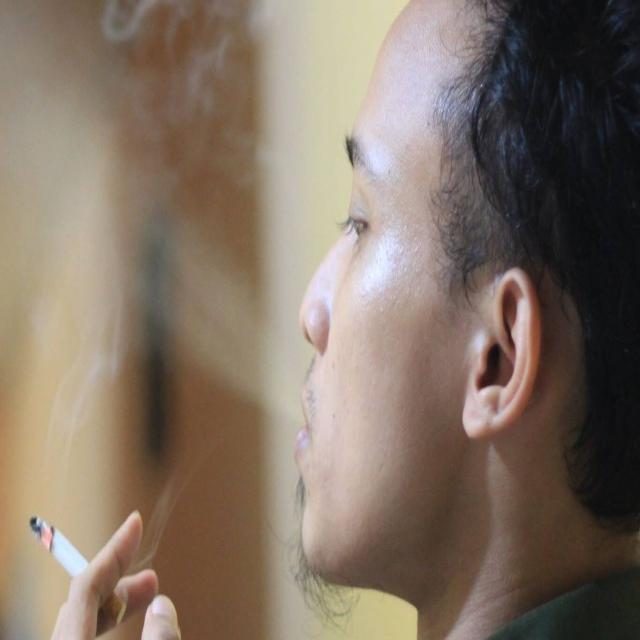rokok: (22, 509, 128, 631)
